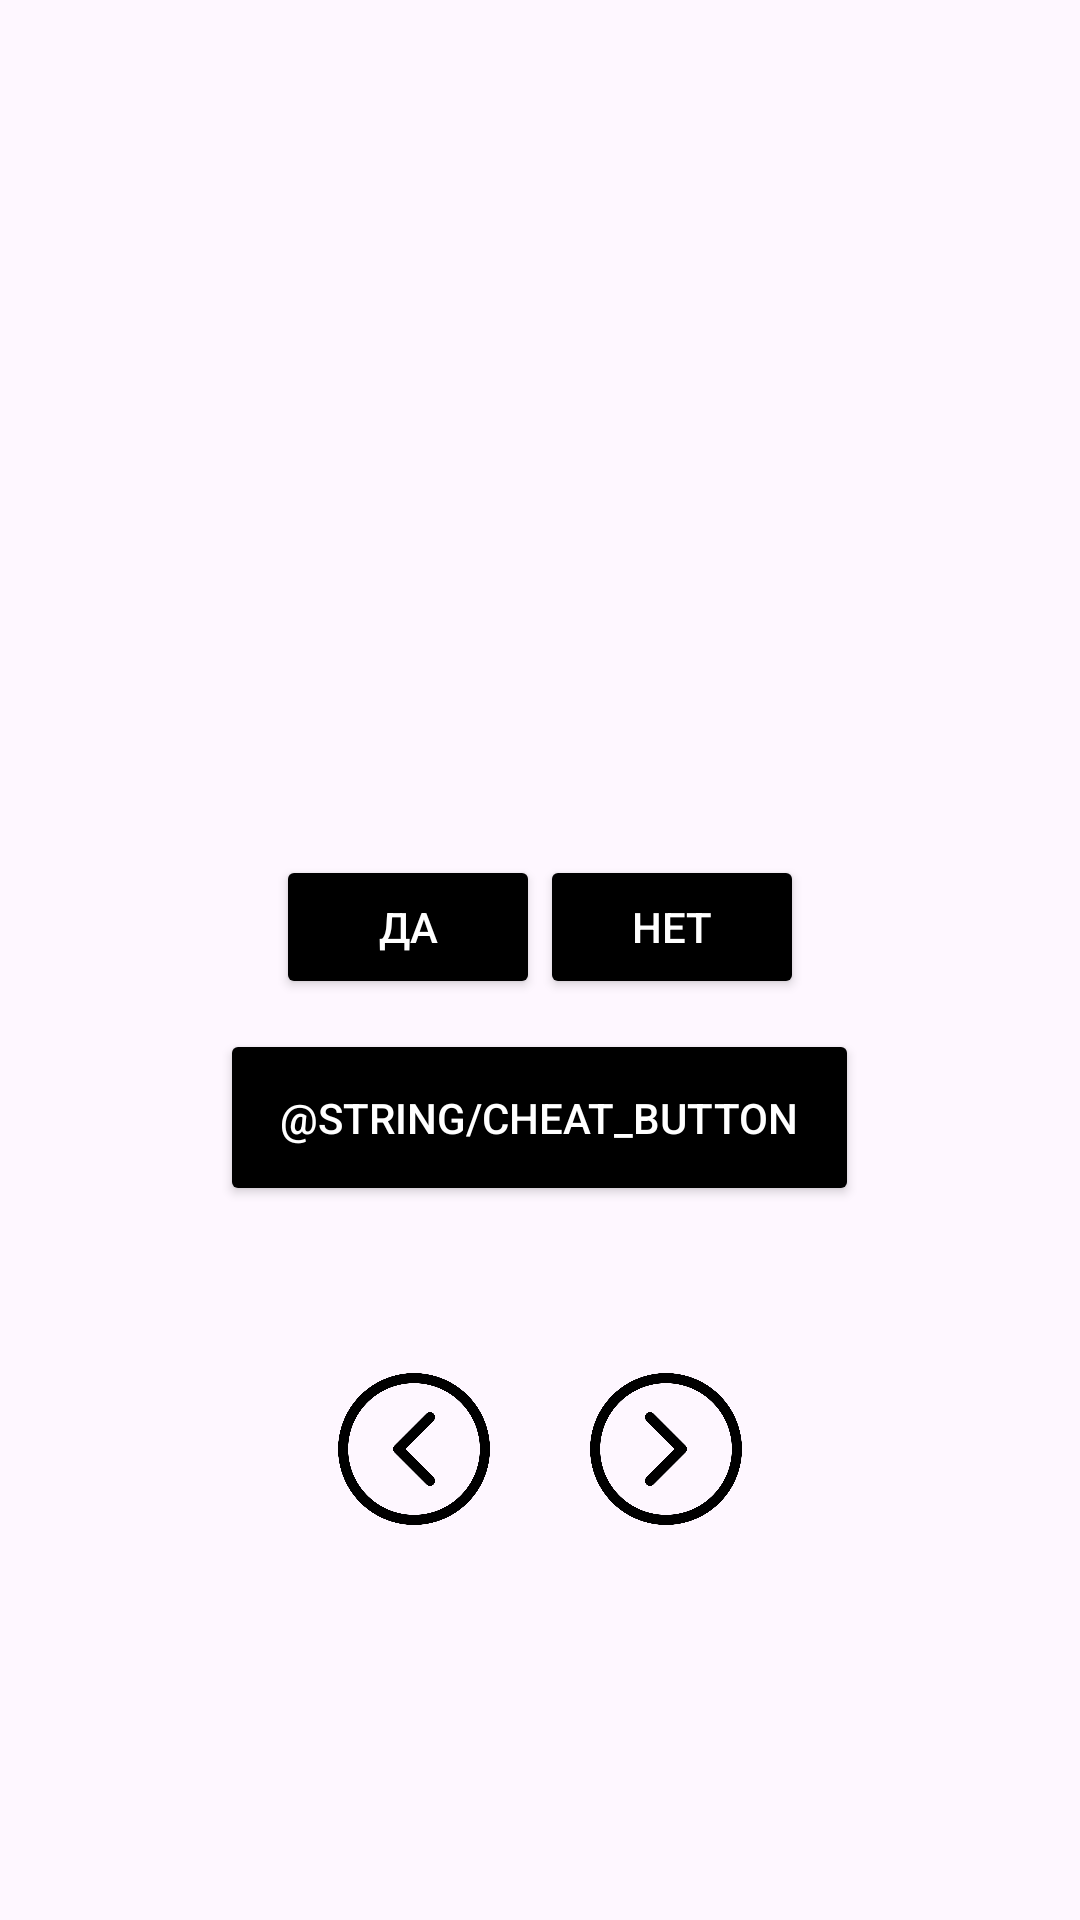

Icon click points for this 1080*1920 phone screenshot, format [x,y]:
Back question: [414,1449]
Next question: [666,1449]
